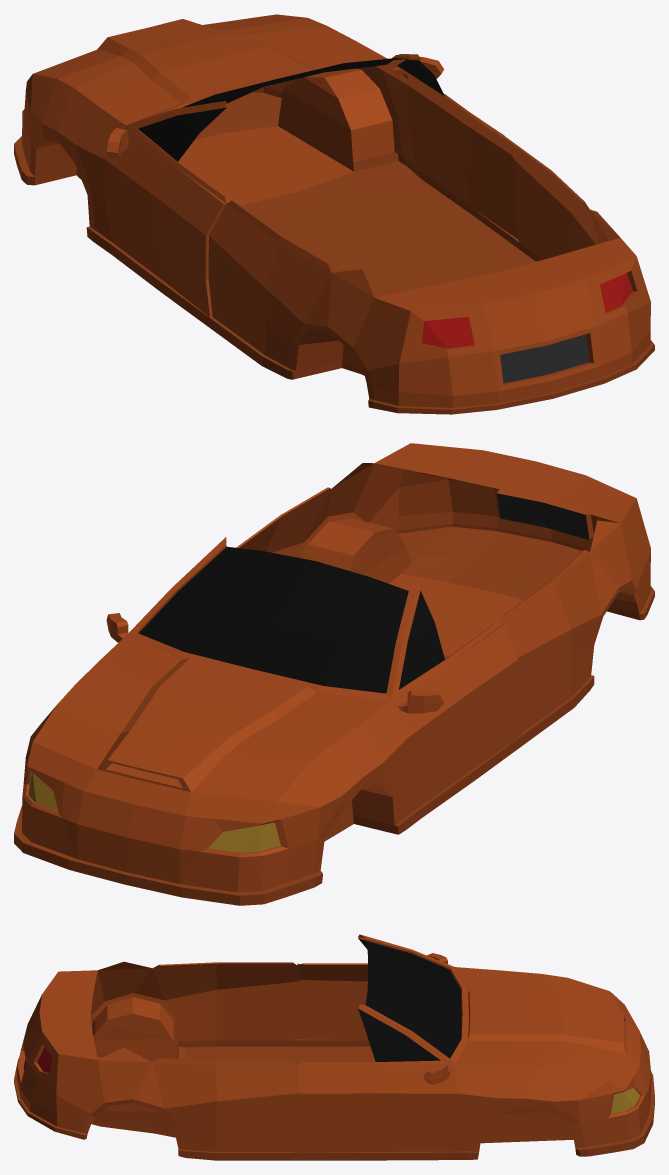
Rendered from body.obj.
The picture shows the model from 3 angles, top to bottom: view 1: azimuth 30°, elevation 25°; view 2: azimuth 150°, elevation 25°; view 3: azimuth 270°, elevation 25°; orthographic projection. The views are drawn at different scales.
Bounding box in the file's own units: 2 × 1.03 × 4.4.
